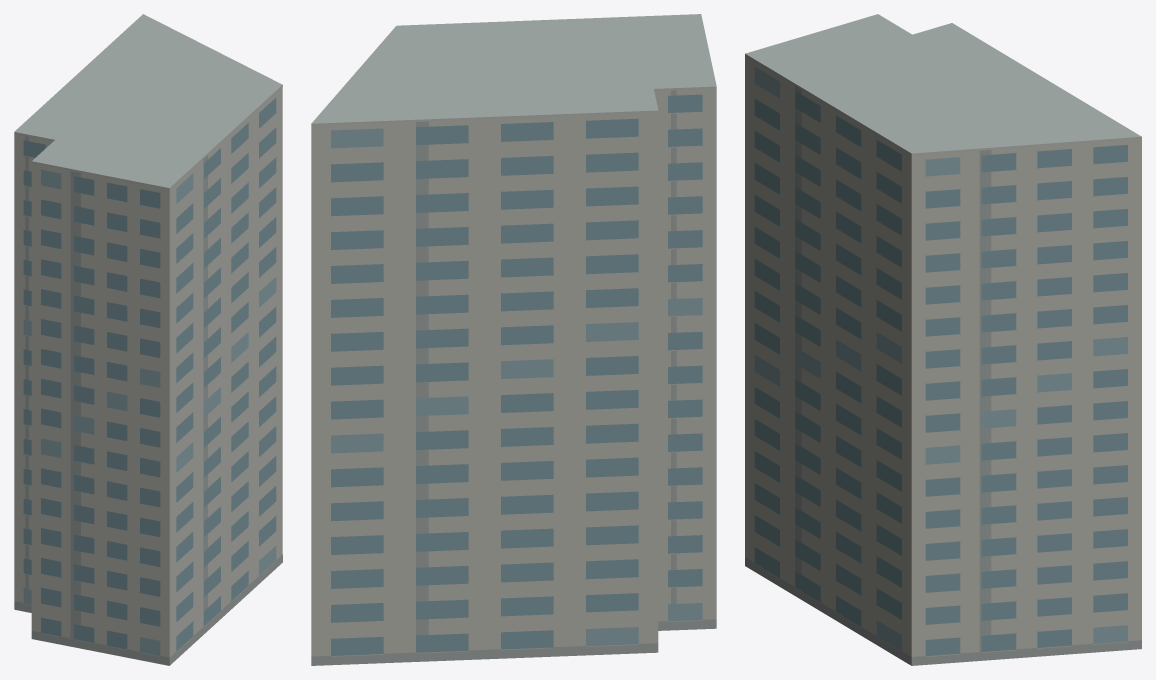
Rendered from residential-159d39f3-855d-47a0-a975-3a52ca6aa717.glb.
3 renders of one model, left to right at view 1: azimuth 30°, elevation 25°; view 2: azimuth 150°, elevation 25°; view 3: azimuth 270°, elevation 25°, orthographic. The views are drawn at different scales.
Parts seen in each view (by area): view 1: residential-159d39f3-855d-47a0-a975-3a52ca6aa717.tmp; view 2: residential-159d39f3-855d-47a0-a975-3a52ca6aa717.tmp; view 3: residential-159d39f3-855d-47a0-a975-3a52ca6aa717.tmp.
Boxes of the visible parts, x1=… form: residential-159d39f3-855d-47a0-a975-3a52ca6aa717.tmp: x1=14, y1=14, x2=282, y2=665; residential-159d39f3-855d-47a0-a975-3a52ca6aa717.tmp: x1=311, y1=14, x2=716, y2=665; residential-159d39f3-855d-47a0-a975-3a52ca6aa717.tmp: x1=745, y1=14, x2=1141, y2=665.
Size of the model in its own units: 33.3 by 57 by 40.02.
